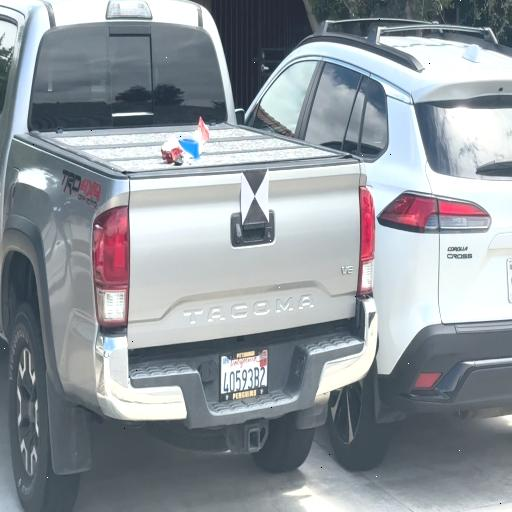target: (242, 170, 269, 222)
